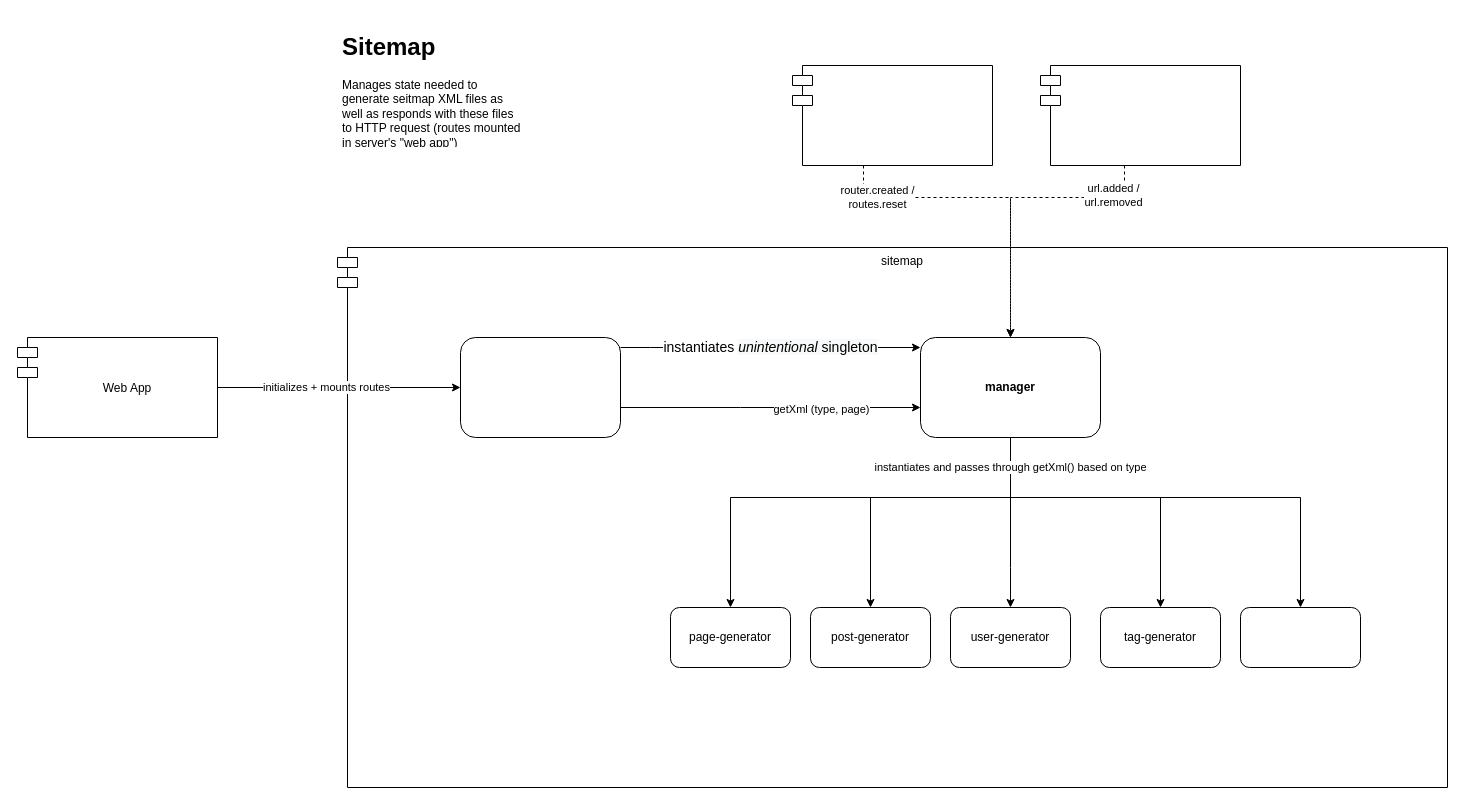
Some shapes in this 1465 by 805 pixel diagram are drawn without their labels. The box of each missing label's shape, as (x1, y1, x2, y2) in pixels:
handler GET /sitemap.xml GET /sitemap-:resource.xml: (460, 336, 620, 438)
index-generator: (1240, 606, 1360, 668)
Routing: (792, 64, 992, 166)
Url Service: (1040, 64, 1240, 166)
